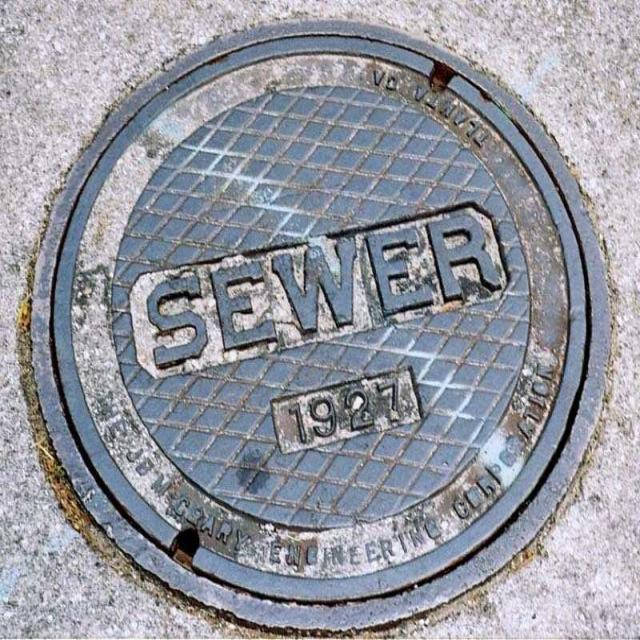manhole: (29, 22, 611, 634)
